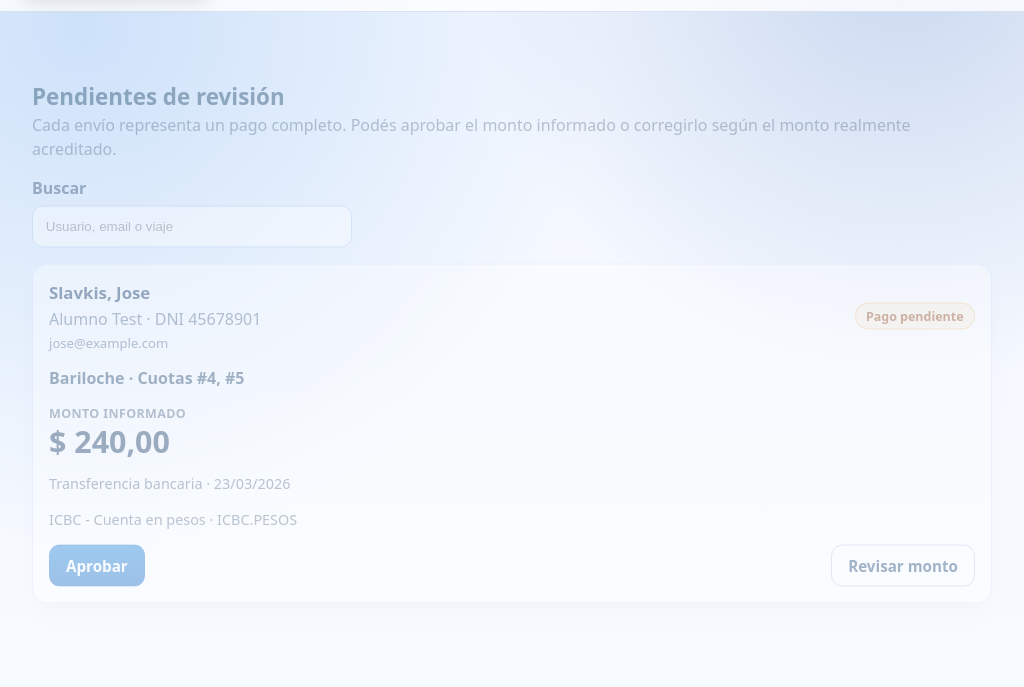
PendingReviewPage amount slider › returning the slider to the center restores the reported amount exactly
The width and height of the screenshot is (1024, 687).
Check: the heading "Slavkis, Jose" is shown, box x1=49 y1=280 x2=150 y2=303
Click the button "Revisar monto" at (903, 566), box x1=831 y1=544 x2=975 y2=586
(page scrolled)
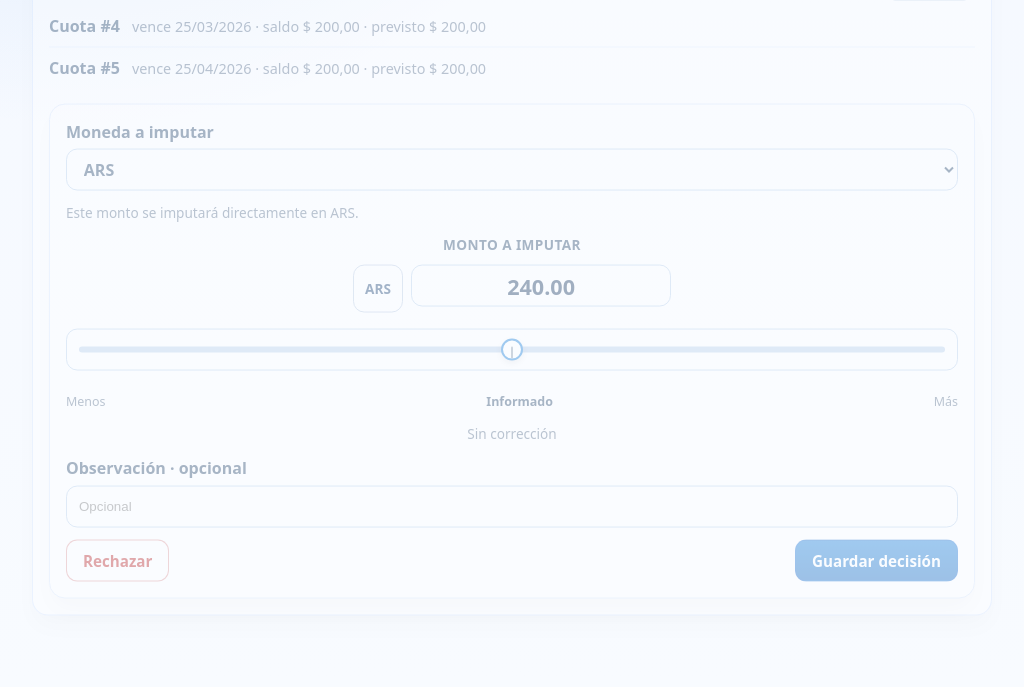
Set the slider named "Corregir monto con barra deslizante" to "625" at (622, 350), box x1=66 y1=329 x2=958 y2=371
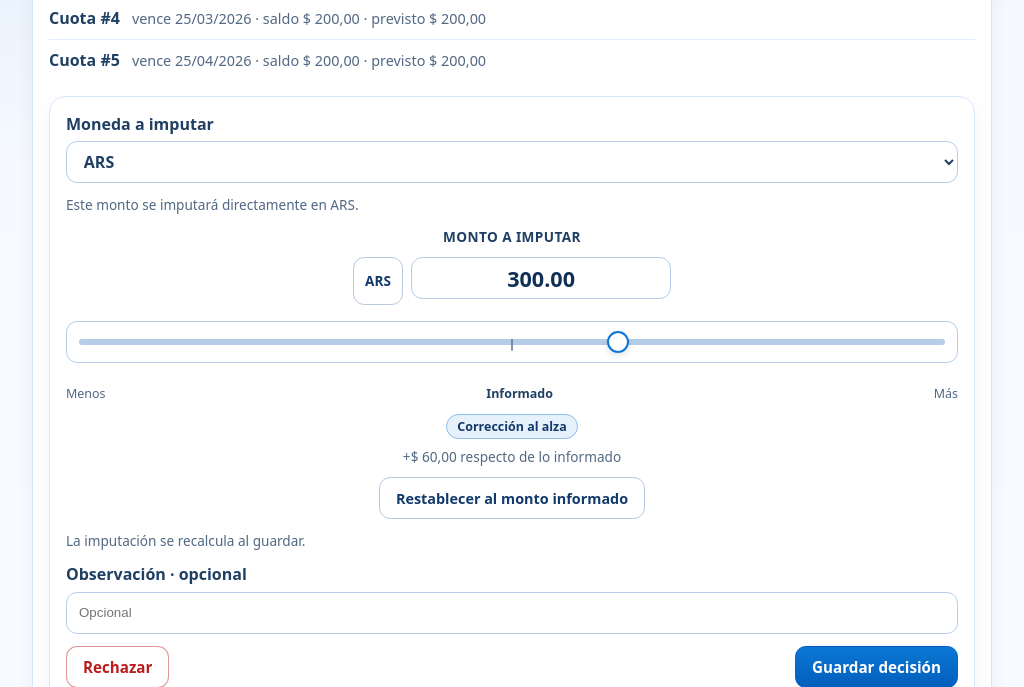
Check: the text "Corrección al alza" is shown, box x1=446 y1=414 x2=578 y2=439
Set the slider named "Corregir monto con barra deslizante" to "500" at (512, 342), box x1=66 y1=321 x2=958 y2=363
(page scrolled)
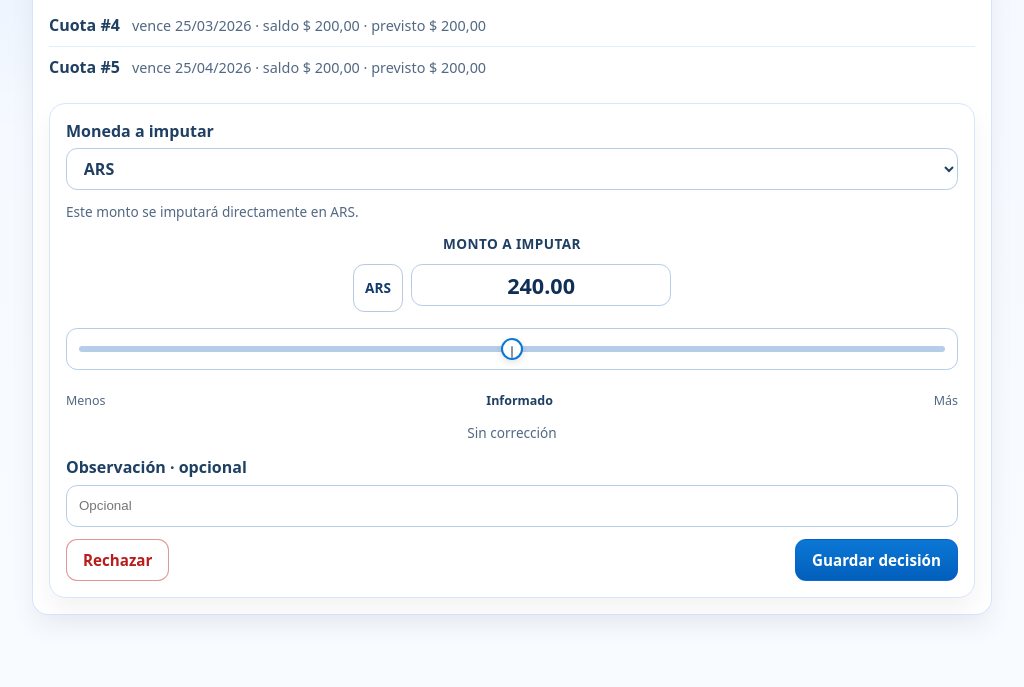
Check: the field labelled "Observación · opcional" is shown, box x1=66 y1=485 x2=958 y2=527
Check: the field named "Monto a imputar" holds "240.00", box x1=411 y1=264 x2=671 y2=306
Check: the text "Sin corrección" is shown, box x1=467 y1=423 x2=557 y2=442
